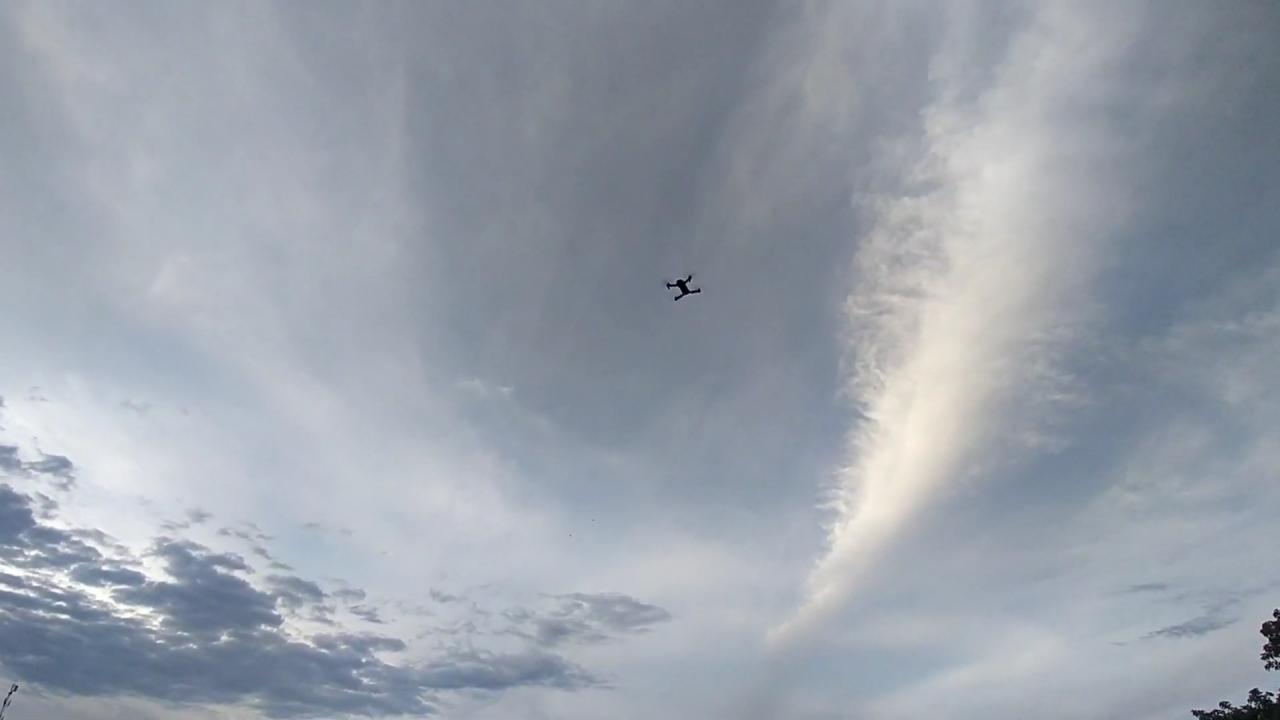Drone: (658, 270, 710, 310)
